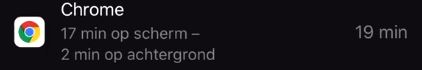name: (55, 1, 129, 20)
time: (56, 44, 104, 69), (56, 23, 110, 44)
